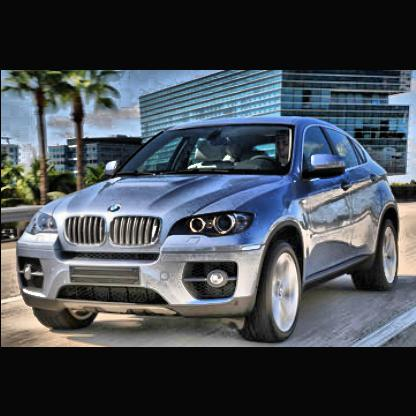BMW X6 SUV 2012: (18, 120, 400, 343)
